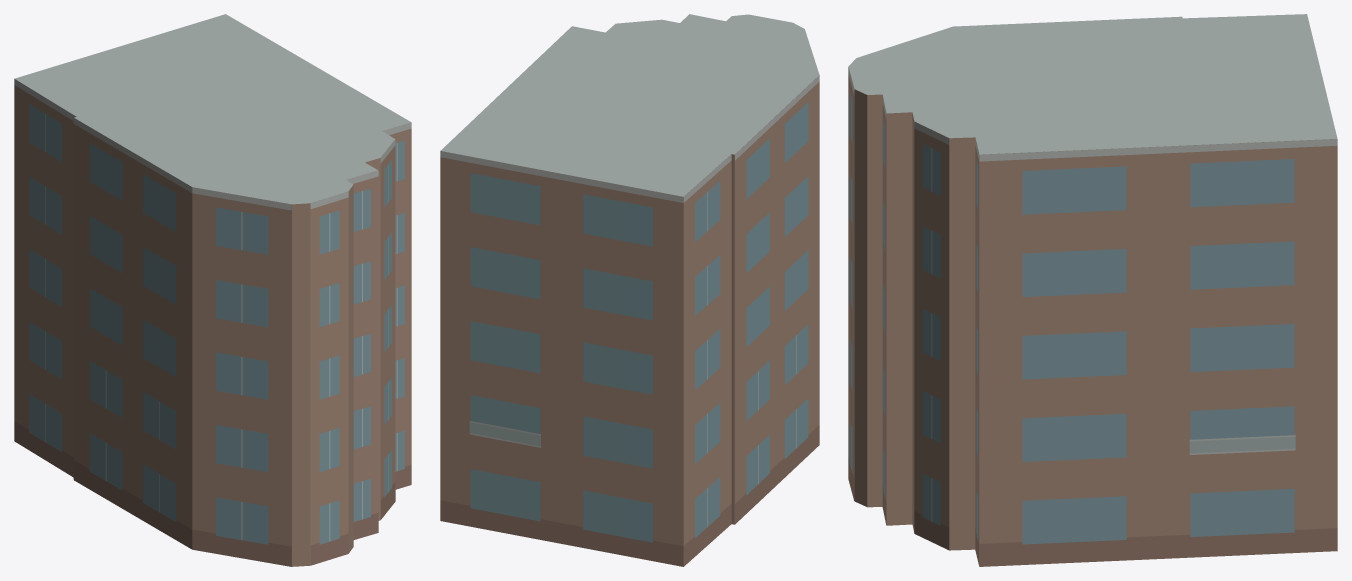
Rendered from survey-upis-33030347.glb.
3 views of the same model, side by side, from view 1: azimuth 30°, elevation 25°; view 2: azimuth 150°, elevation 25°; view 3: azimuth 270°, elevation 25° (orthographic). The views are drawn at different scales.
Visible parts, largest first — view 1: survey-upis-33030347.tmp; view 2: survey-upis-33030347.tmp; view 3: survey-upis-33030347.tmp.
Boxes of the visible parts, x1,y1,x2,y2 form: survey-upis-33030347.tmp: [14, 14, 411, 566]; survey-upis-33030347.tmp: [440, 14, 819, 566]; survey-upis-33030347.tmp: [848, 14, 1337, 566].
Size of the model in its own units: 10.54 by 14.4 by 15.5.
